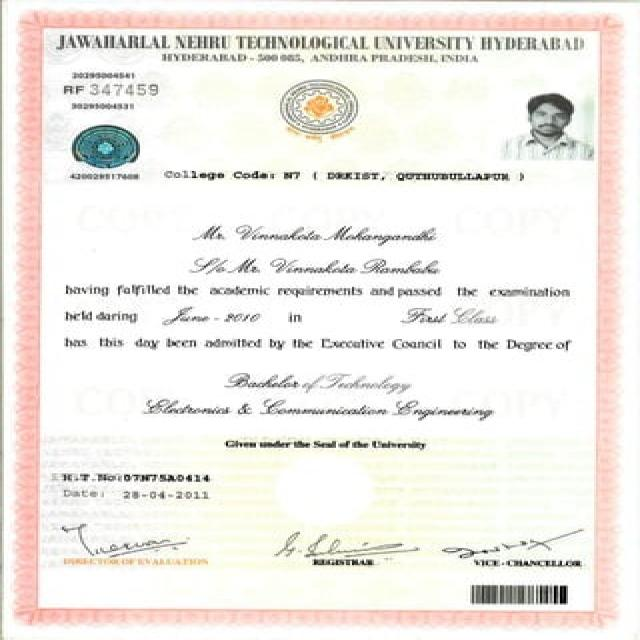degree: (265, 76, 373, 149)
signature: (58, 519, 209, 574), (276, 529, 420, 569), (444, 533, 600, 569)
